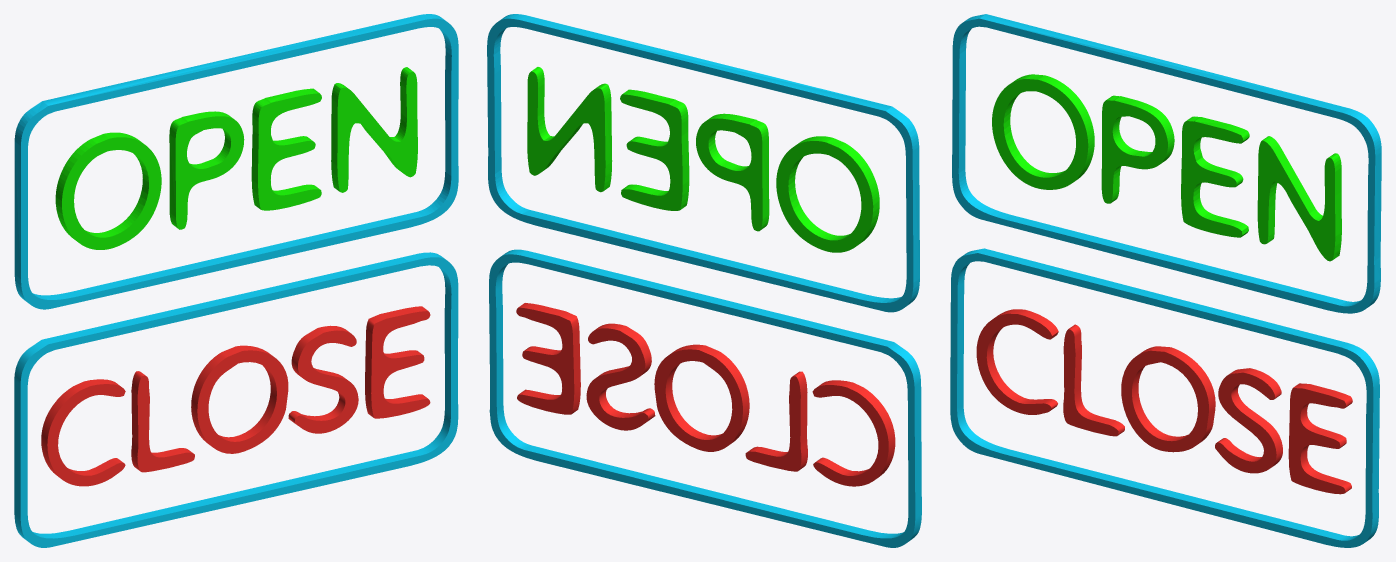
The model's file is Sign.fbx.
3 views of the same model, side by side, from view 1: azimuth 30°, elevation 25°; view 2: azimuth 150°, elevation 25°; view 3: azimuth 330°, elevation 25° (orthographic).
Parts seen in each view (by area): view 1: Layer_1.001, Layer_1; view 2: Layer_1.001, Layer_1; view 3: Layer_1.001, Layer_1.
Part boxes in pixels (x1=…): Layer_1.001: x1=14, y1=14, x2=458, y2=309; Layer_1: x1=14, y1=252, x2=458, y2=547; Layer_1.001: x1=487, y1=14, x2=919, y2=312; Layer_1: x1=489, y1=249, x2=921, y2=547; Layer_1.001: x1=952, y1=14, x2=1381, y2=313; Layer_1: x1=950, y1=248, x2=1379, y2=547.
Bounding box in the file's own units: 126 × 123 × 6.17.
Materials: 1 (1 with a texture image).
